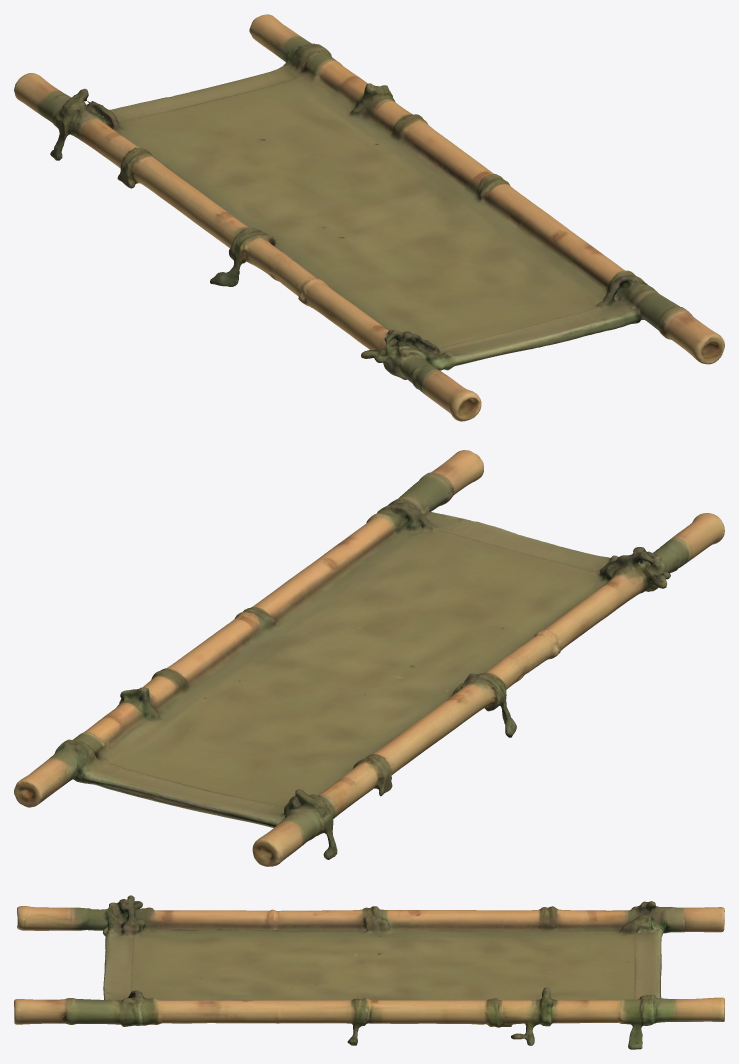
Rendered from Bamboo Stretcher.glb.
3 renders of one model, top to bottom at view 1: azimuth 30°, elevation 25°; view 2: azimuth 150°, elevation 25°; view 3: azimuth 270°, elevation 25°, orthographic. The views are drawn at different scales.
Bounding box in the file's own units: 0.7988 × 0.1563 × 2.
Materials: 1 (1 with a texture image).
